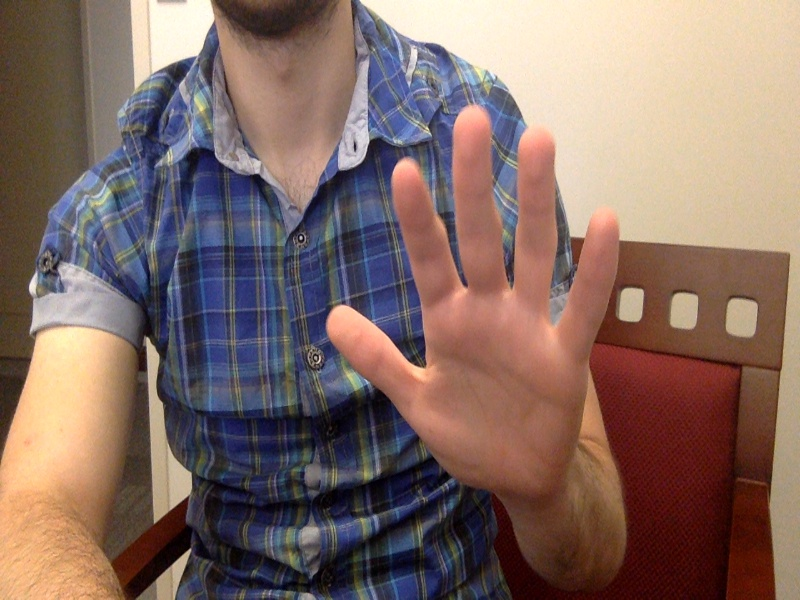5-hand: (325, 105, 626, 508)
